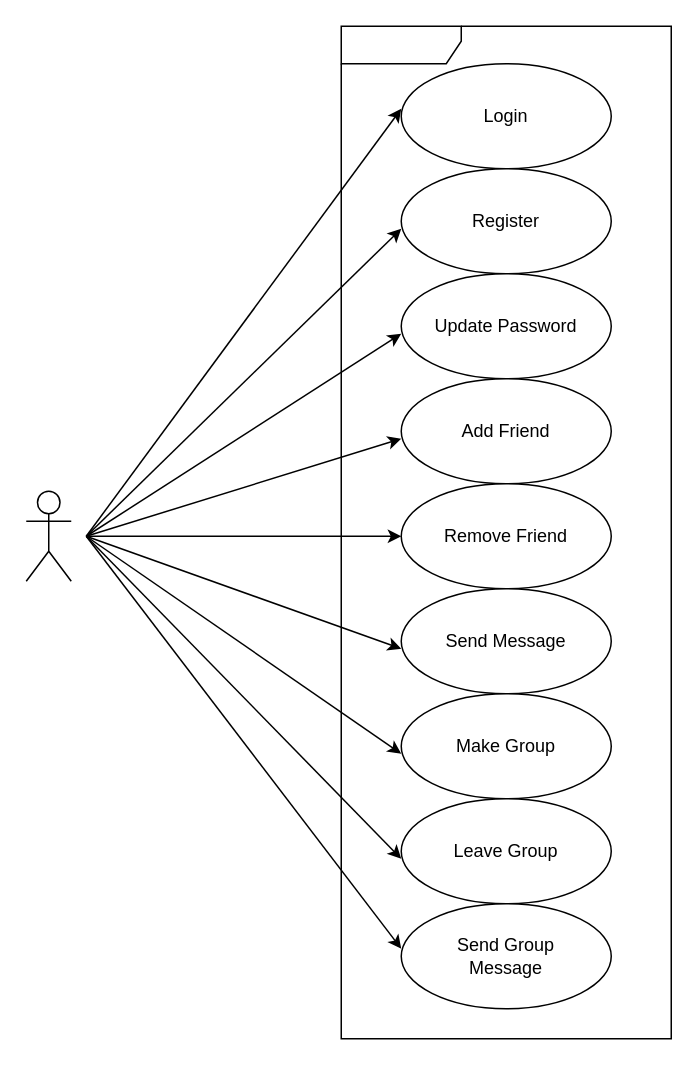
Some shapes in this 698 by 1065 pixel diagram are drawn without their labels. The shapes that lost their labels are listed below. From the top down, each one's centre as x and y in pixels, then its label:
pixel 48 535: User
pixel 505 532: Chat Client
